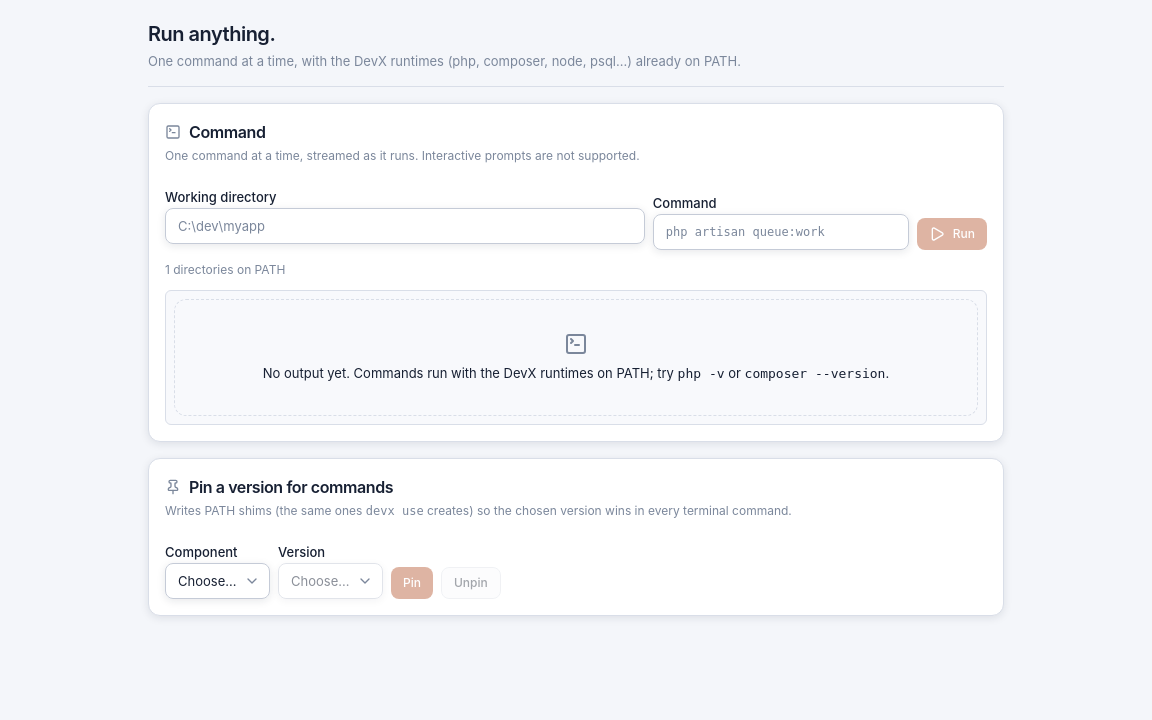
Test case: TerminalPage › reports a rejected unpin the same way
This screenshot has width=1152, height=720.
Select "php" in the dropdown labelled "Component" at (218, 581), box [165,563,270,599]
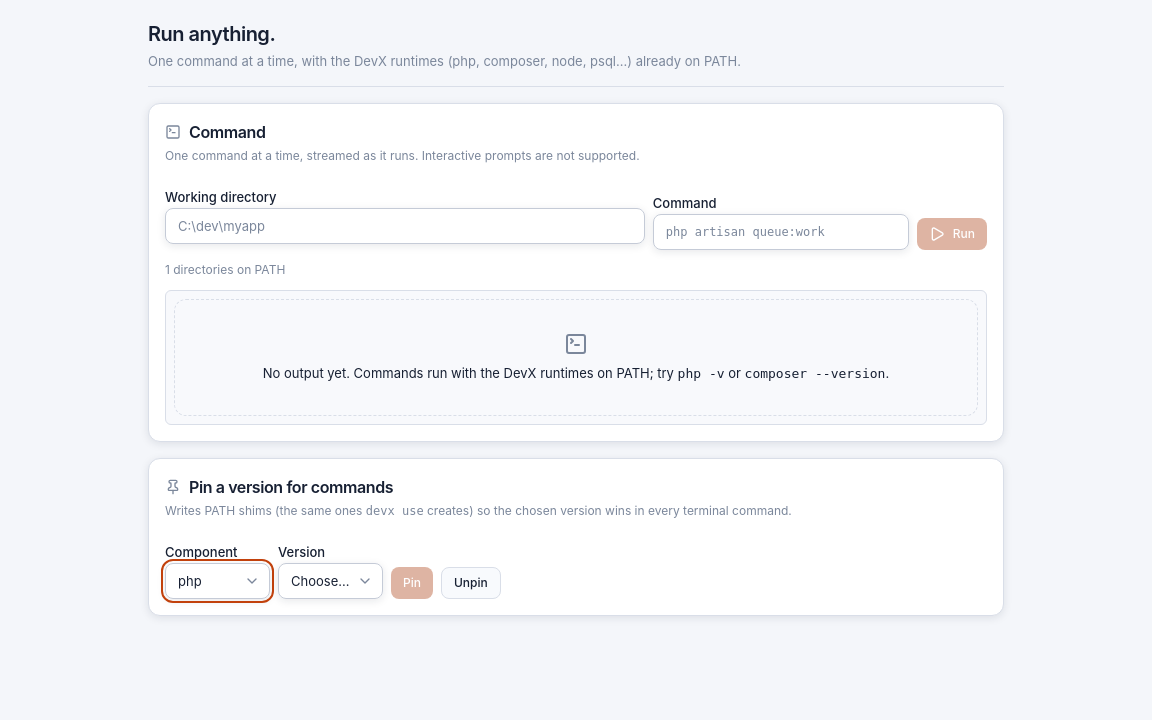
Click the button "Unpin" at (471, 583), box [441,567,501,599]
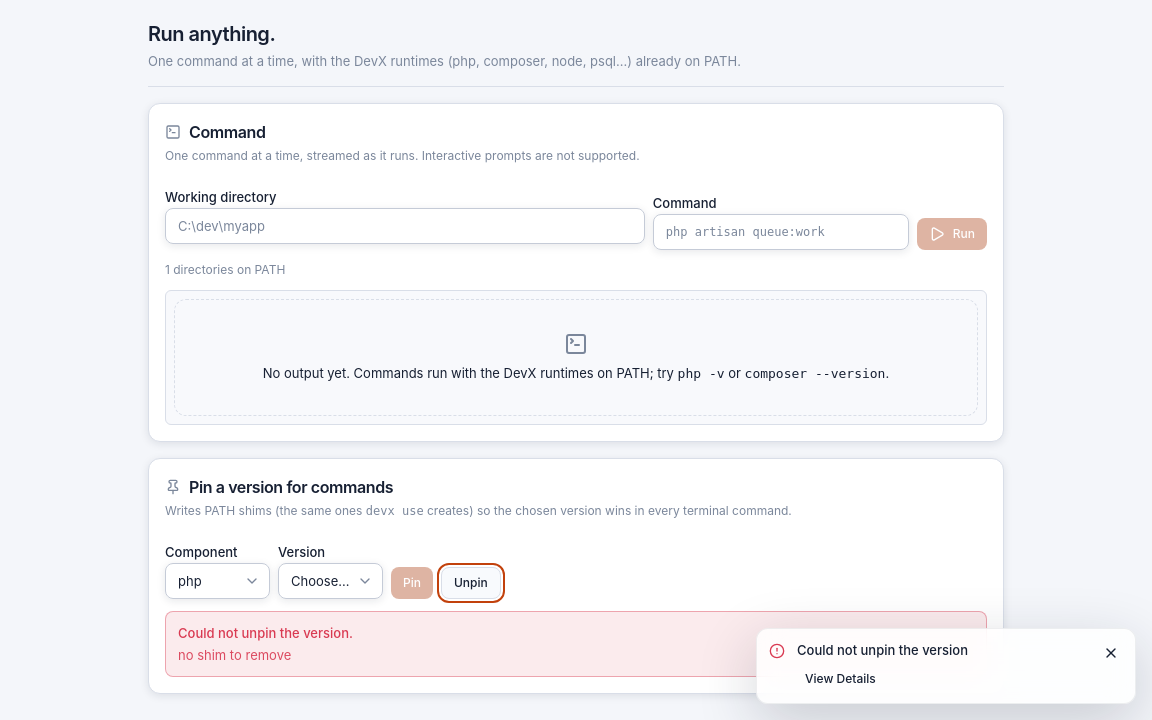
Expected: the text "Could not unpin the version." is shown, [178,625,353,641]
Expected: the text "no shim to remove" is shown, [178,647,291,663]
